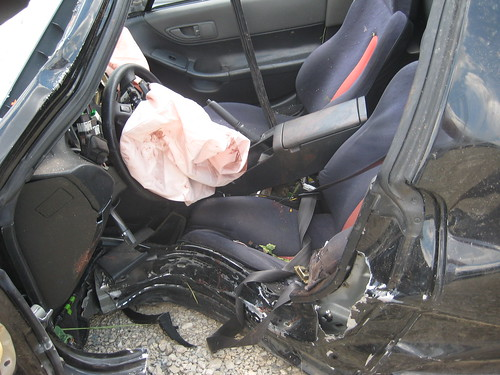car: (1, 1, 498, 372)
